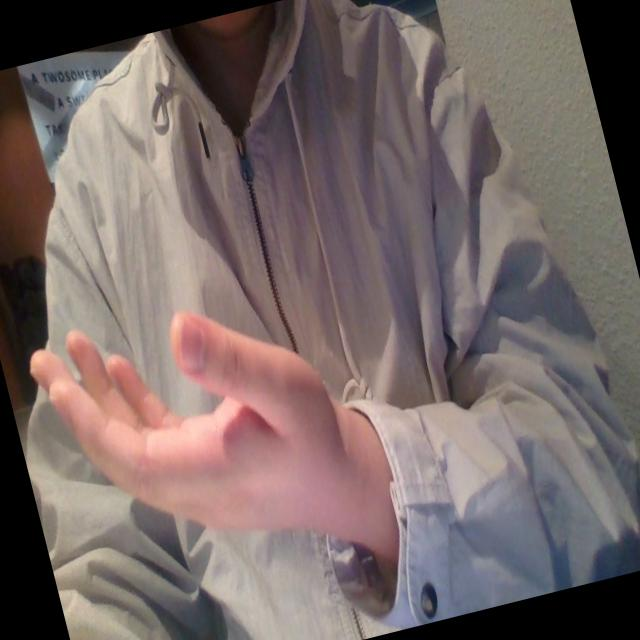hand: (15, 260, 394, 626)
